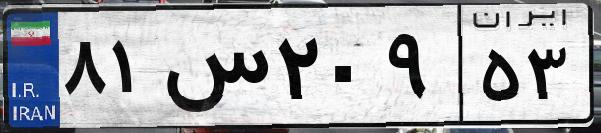0: (330, 28, 385, 110)
1: (110, 28, 158, 98)
2: (270, 28, 330, 110)
3: (525, 38, 570, 115)
5: (475, 38, 525, 113)
8: (57, 26, 110, 100)
9: (385, 28, 445, 110)
س: (158, 20, 270, 120)
